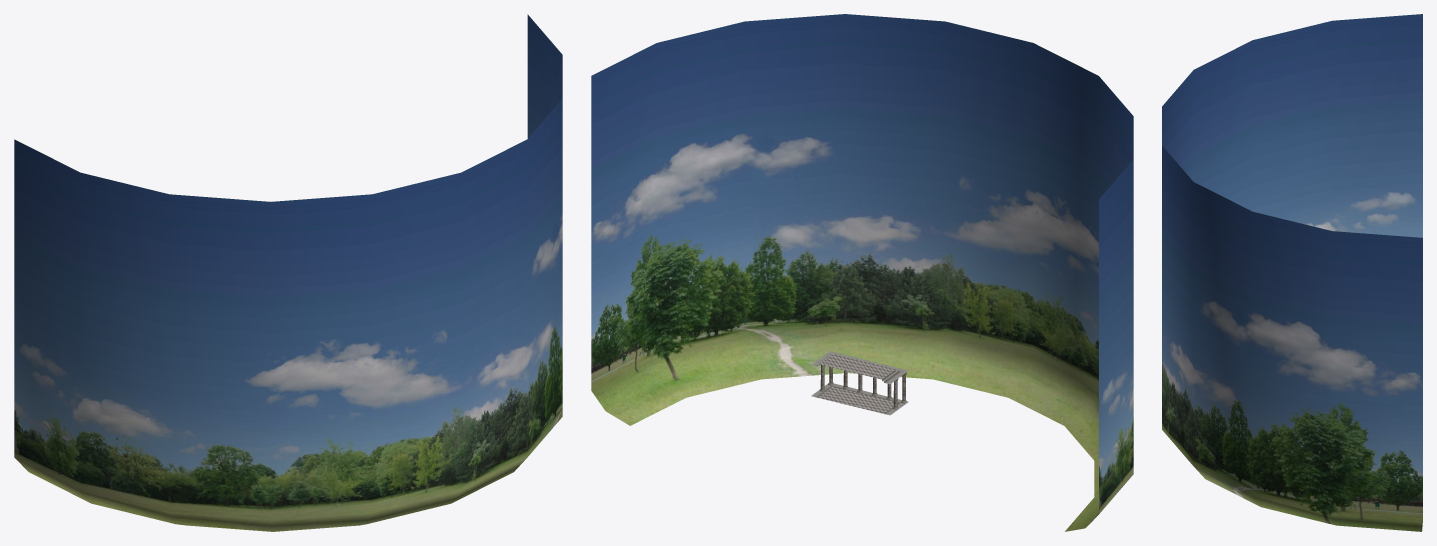
The model's file is Exterior.dae.
3 renders of one model, left to right at view 1: azimuth 30°, elevation 25°; view 2: azimuth 150°, elevation 25°; view 3: azimuth 270°, elevation 25°, orthographic. The views are drawn at different scales.
Visible parts, largest first — view 1: Exterior; view 2: Exterior (×4); view 3: Exterior.
Part boxes in pixels (box(x1,y1,x2,y2)): Exterior: box(14, 14, 562, 531); Exterior (×4): box(591, 14, 1133, 531); Exterior: box(1162, 14, 1422, 531).
Size of the model in its own units: 23756 by 15328 by 11698.
5 materials, 5 textured.
